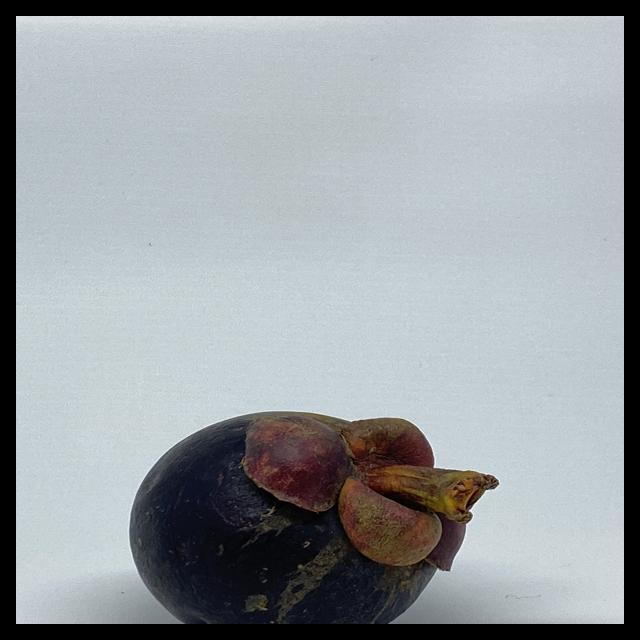mangosteen: (116, 386, 489, 624)
